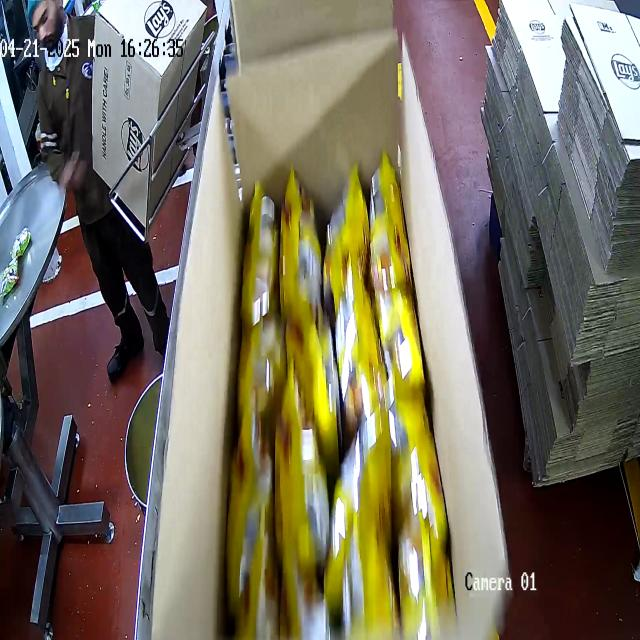SALTED: (225, 174, 448, 640)
